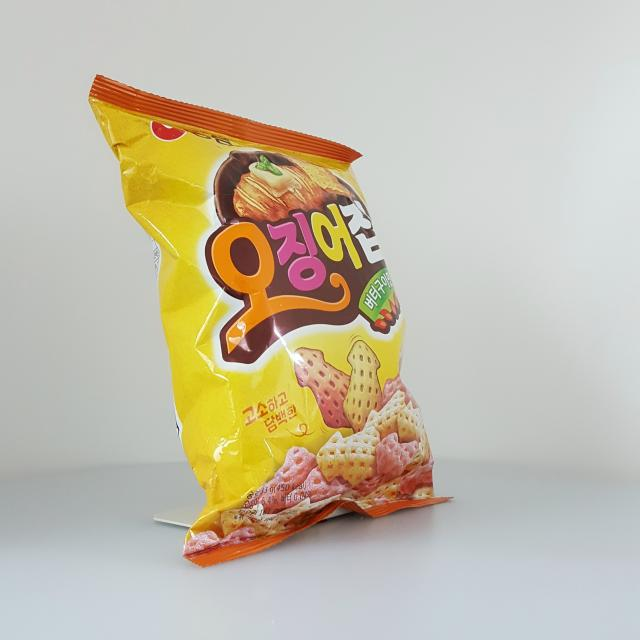-83G: (88, 75, 454, 570)
